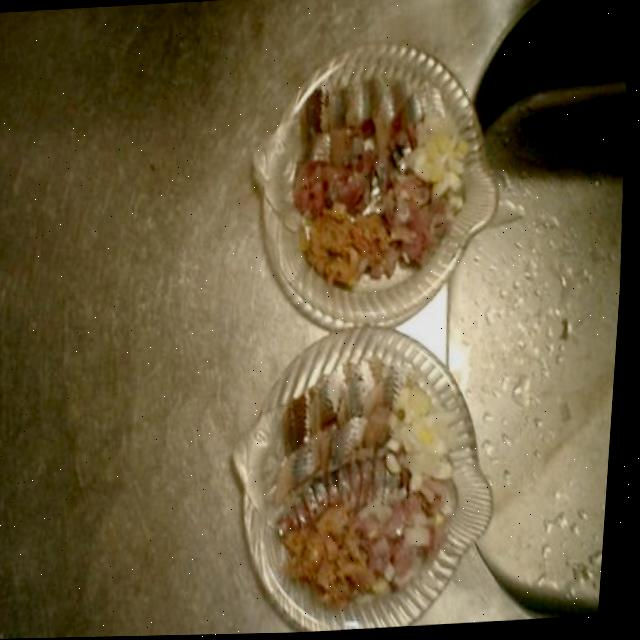熟制海鲜: (171, 49, 494, 636)
